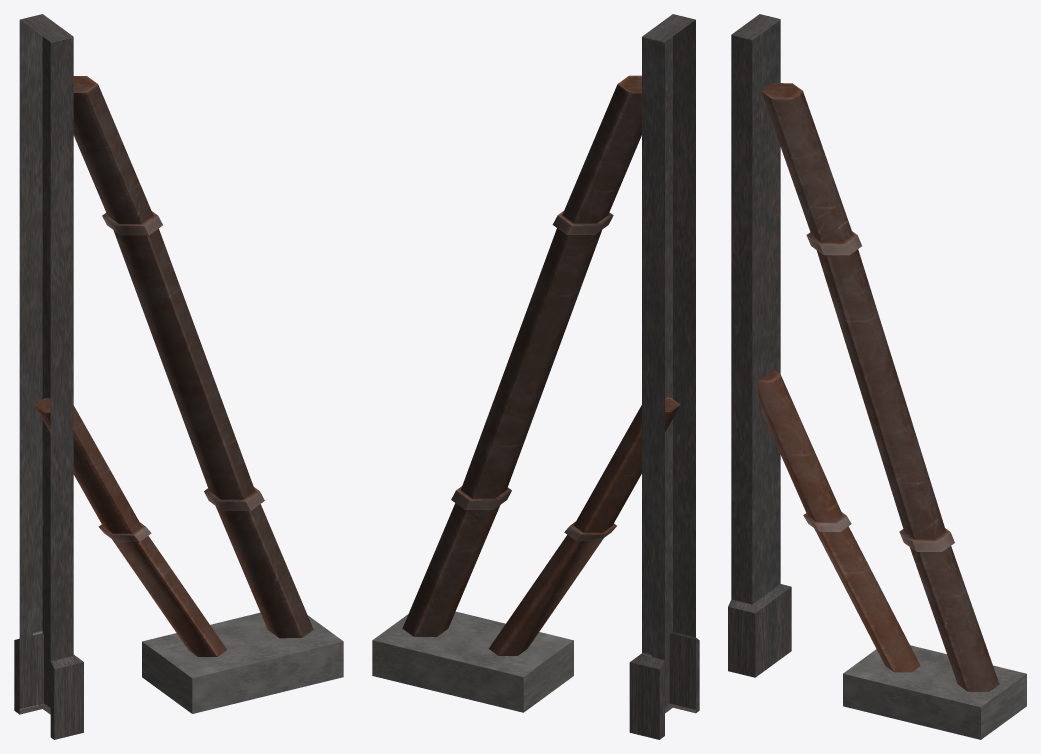
File: Props_Renfort_1.fbx
The picture shows the model from 3 angles, left to right: view 1: azimuth 30°, elevation 25°; view 2: azimuth 150°, elevation 25°; view 3: azimuth 330°, elevation 25°; orthographic projection. The views are drawn at different scales.
Visible parts, largest first — view 1: Props_Renfort_1; view 2: Props_Renfort_1; view 3: Props_Renfort_1.
Boxes of the visible parts, bbox=[...] form: Props_Renfort_1: bbox=[14, 14, 343, 739]; Props_Renfort_1: bbox=[372, 14, 699, 739]; Props_Renfort_1: bbox=[728, 14, 1026, 739].
Bounding box in the file's own units: 230 × 540 × 70.87.
